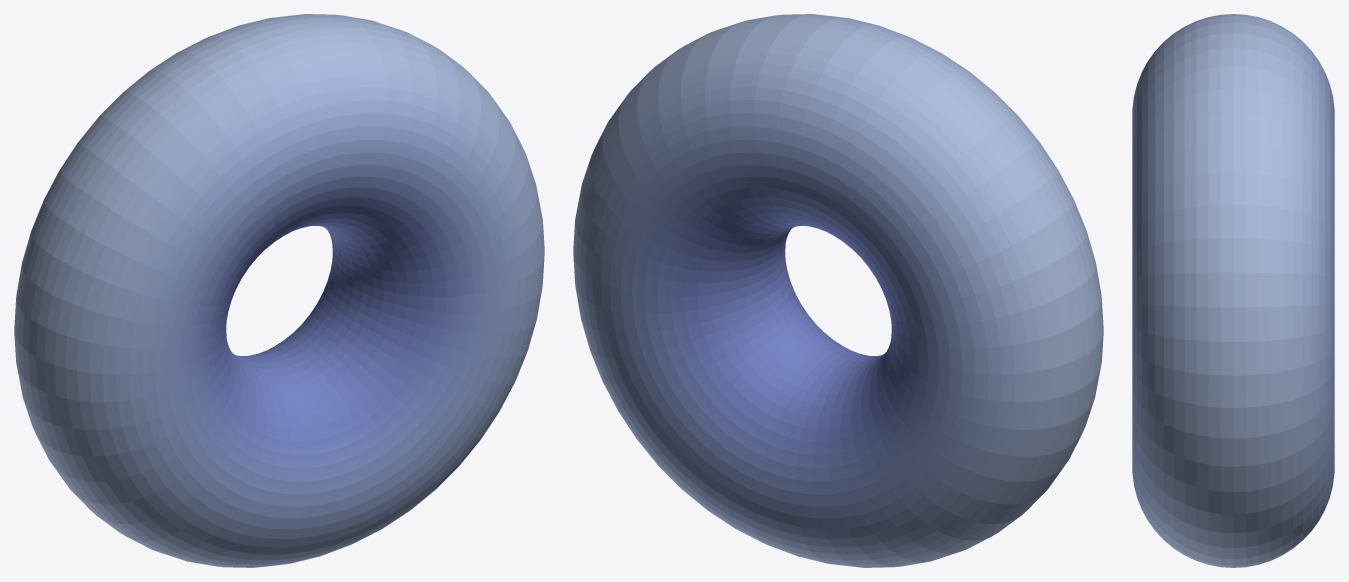
3 renders of one model, left to right at view 1: azimuth 30°, elevation 25°; view 2: azimuth 150°, elevation 25°; view 3: azimuth 270°, elevation 25°, orthographic. The views are drawn at different scales.
Parts seen in each view (by area): view 1: world; view 2: world; view 3: world.
Boxes of the visible parts, x1=… form: world: x1=14, y1=14, x2=544, y2=567; world: x1=573, y1=14, x2=1103, y2=567; world: x1=1132, y1=14, x2=1334, y2=567.
Bounding box in the file's own units: 17.87 × 17.83 × 6.52.
